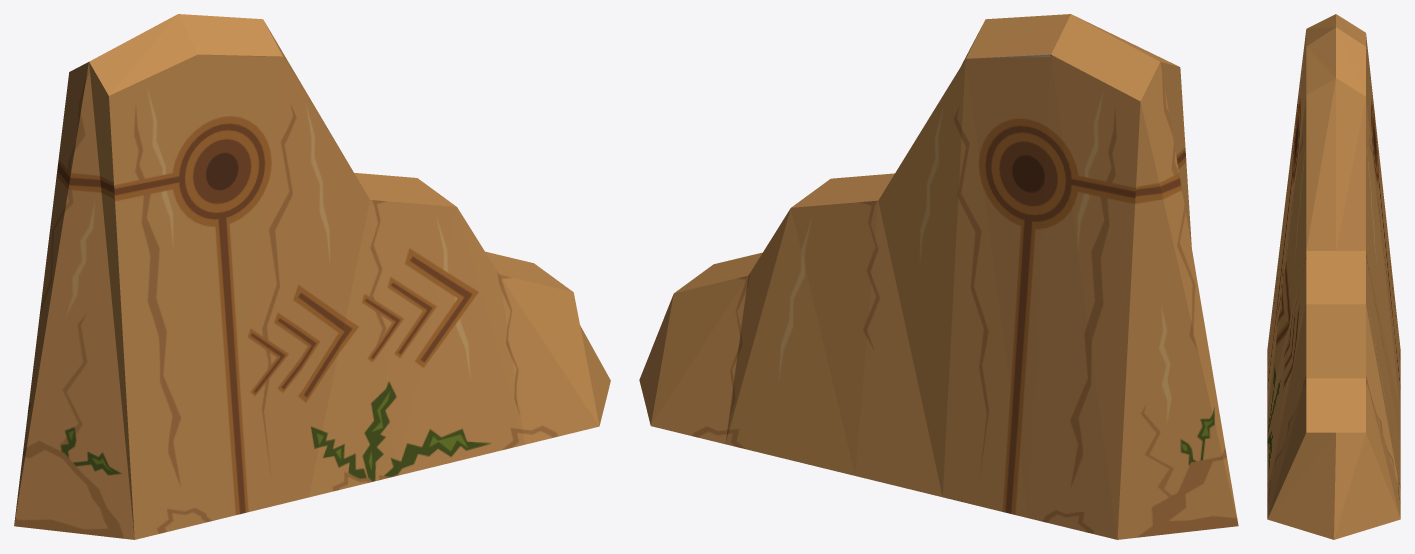
Rendered from rock_01.glb.
The picture shows the model from 3 angles, left to right: view 1: azimuth 30°, elevation 25°; view 2: azimuth 150°, elevation 25°; view 3: azimuth 270°, elevation 25°; orthographic projection. The views are drawn at different scales.
Parts seen in each view (by area): view 1: Stone_Cube.001; view 2: Stone_Cube.001; view 3: Stone_Cube.001.
Part boxes in pixels (x1=…): Stone_Cube.001: x1=14, y1=14, x2=610, y2=539; Stone_Cube.001: x1=639, y1=14, x2=1238, y2=539; Stone_Cube.001: x1=1267, y1=14, x2=1400, y2=539.
Bounding box in the file's own units: 0.8038 × 0.6059 × 0.2062.
1 material, 1 textured.
